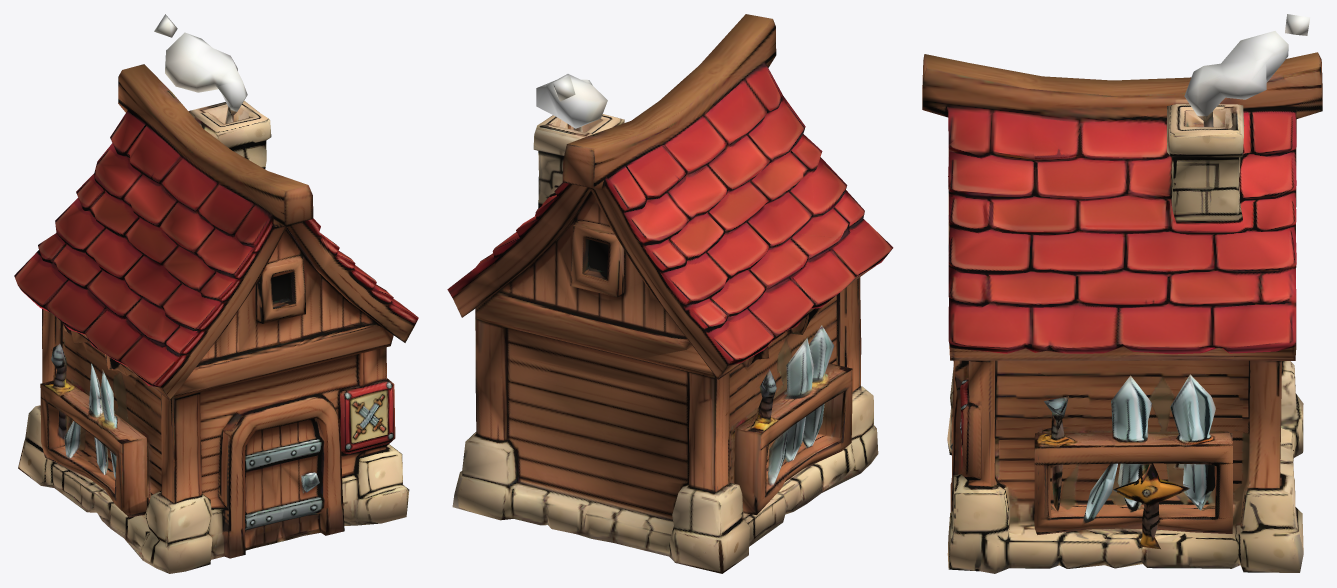
The model's file is Barracks1.fbx.
3 views of the same model, side by side, from view 1: azimuth 30°, elevation 25°; view 2: azimuth 150°, elevation 25°; view 3: azimuth 270°, elevation 25° (orthographic). The views are drawn at different scales.
Parts seen in each view (by area): view 1: Mesh_0; view 2: Mesh_0; view 3: Mesh_0.
Boxes of the visible parts, x1,y1,x2,y2 form: Mesh_0: (14, 14, 418, 573); Mesh_0: (447, 14, 893, 573); Mesh_0: (922, 14, 1322, 573).
Bounding box in the file's own units: 130 × 191 × 139.
1 material, 1 textured.
